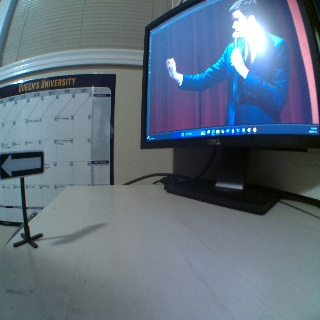sign_oneway_left: (0, 152, 44, 176)
